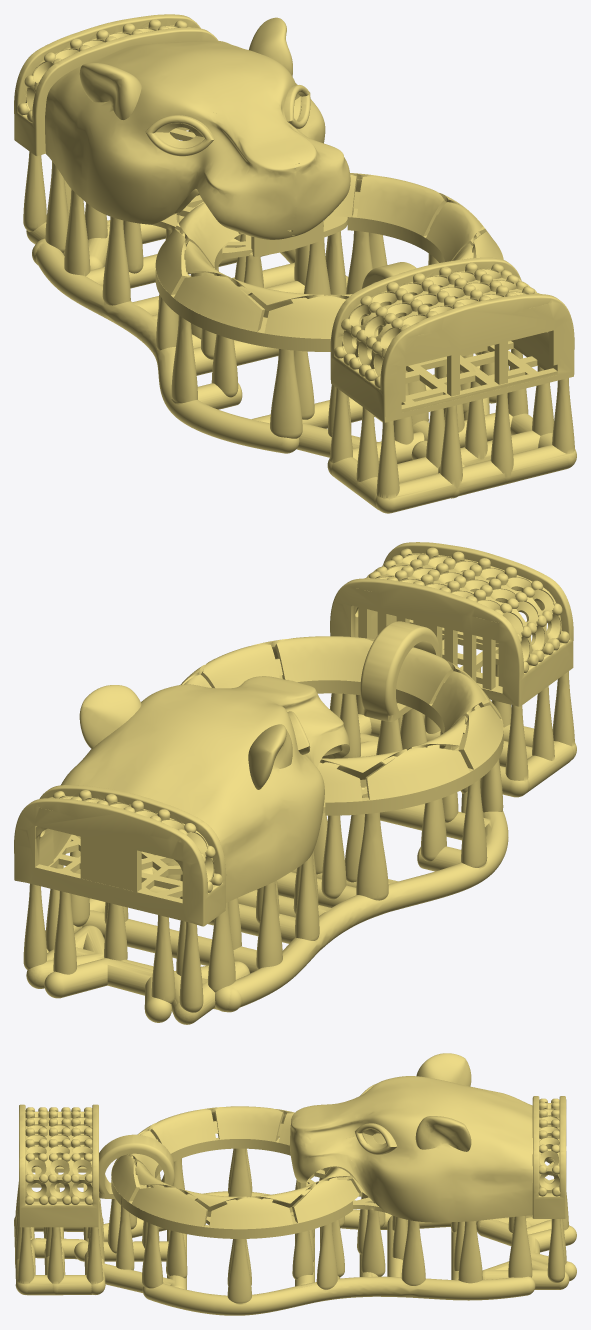
The model's file is kolyeler2_57.glb.
The picture shows the model from 3 angles, top to bottom: view 1: azimuth 30°, elevation 25°; view 2: azimuth 150°, elevation 25°; view 3: azimuth 270°, elevation 25°; orthographic projection. The views are drawn at different scales.
Visible parts, largest first — view 1: Renderer Node; view 2: Renderer Node; view 3: Renderer Node.
Boxes of the visible parts, x1=… form: Renderer Node: x1=14, y1=14, x2=576, y2=513; Renderer Node: x1=14, y1=542, x2=576, y2=1024; Renderer Node: x1=14, y1=1053, x2=576, y2=1315.
Bounding box in the file's own units: 20.15 × 14.73 × 42.38.
